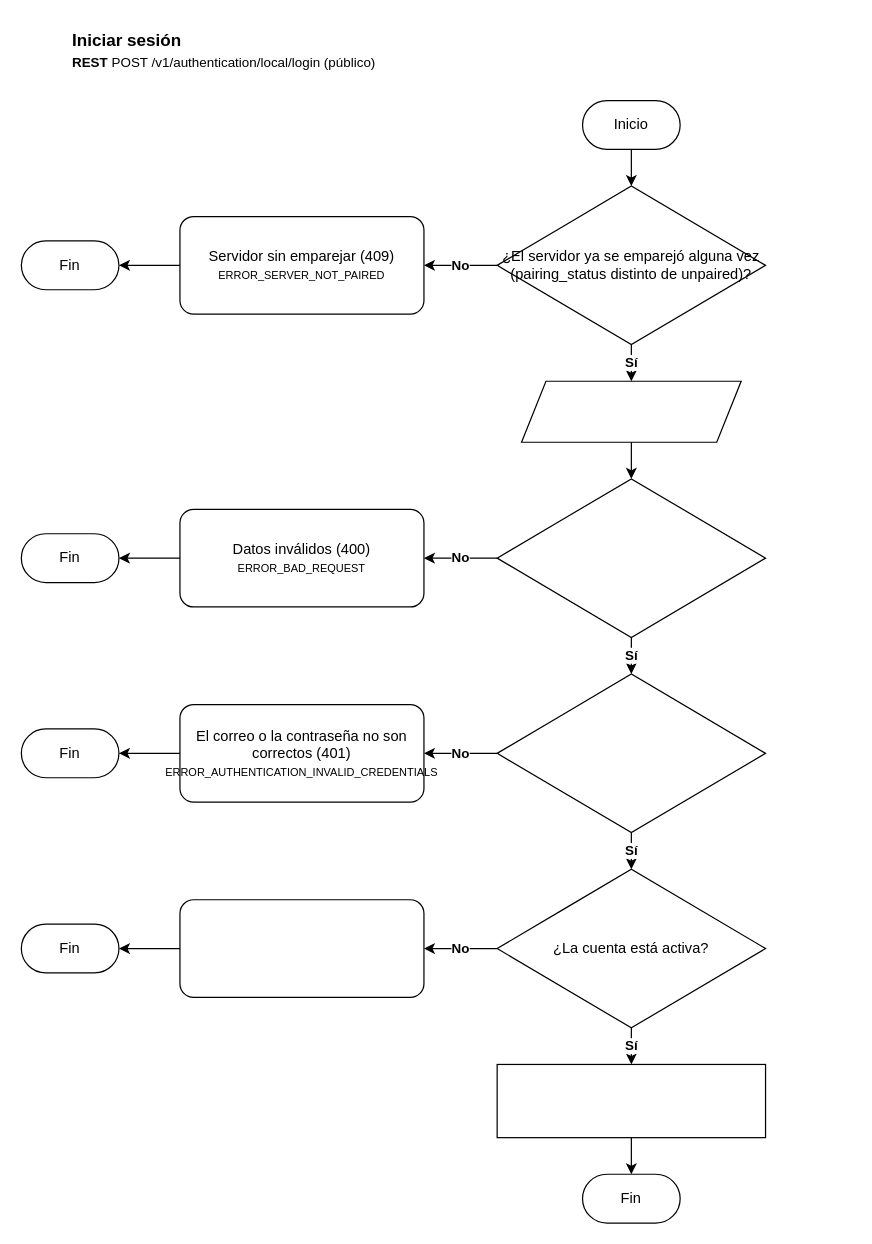
Some shapes in this 872 by 1244 pixel diagram are drawn without their labels. Here are the shapes that lost their labels. From the top down, the centre of each, then its label:
At [630,411]: "Recibir datos".
At [631,557]: "¿Los datos son válidos?".
At [631,753]: "¿Existe el empleado y la contraseña es correcta?".
At [301,948]: "La cuenta está desactivada (403) ERROR_ACCOUNT_DISABLED".
At [631,1100]: "Responder 200 con el mensaje PASSWORD_RESET_REQUIRED".
